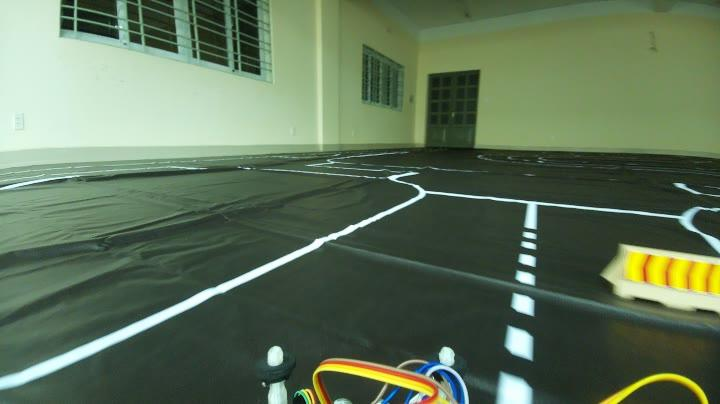roadblock: (592, 228, 720, 324)
